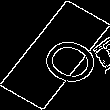O_NW: (17, 23, 93, 87)
